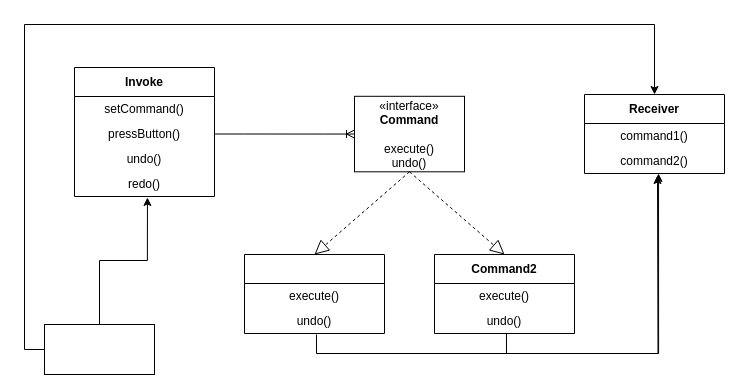
The diagram is 742 pixels wide and 392 high, and some of its shapes have lost their labels. Here are the shapes that lost their labels. From the top down, the box of each, then its label:
(244, 254, 384, 334): Command1
(44, 324, 154, 374): Client
